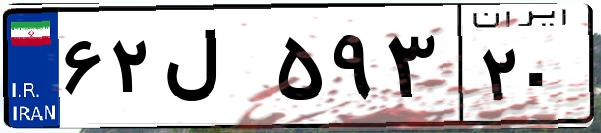0: (525, 38, 570, 115)
2: (475, 38, 525, 113), (110, 28, 158, 98)
3: (385, 28, 445, 110)
5: (270, 28, 330, 110)
6: (57, 26, 110, 100)
9: (330, 28, 385, 110)
ل: (158, 20, 270, 120)
